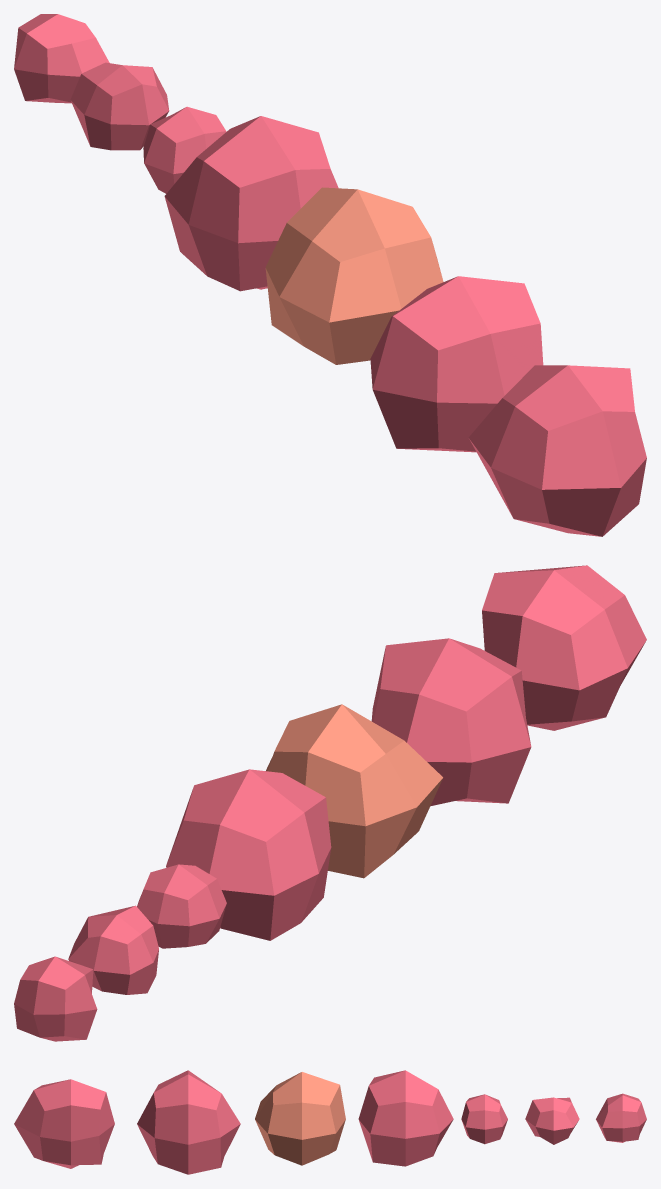
The model's file is asteroids.glb.
3 renders of one model, top to bottom at view 1: azimuth 30°, elevation 25°; view 2: azimuth 150°, elevation 25°; view 3: azimuth 270°, elevation 25°, orthographic. The views are drawn at different scales.
Visible parts, largest first — view 1: Cube, Cube.001, Cube.002, Cube.006, Cube.005, Cube.003, Cube.004; view 2: Cube.006, Cube, Cube.001, Cube.002, Cube.005, Cube.003, Cube.004; view 3: Cube.001, Cube.006, Cube, Cube.002, Cube.003, Cube.005, Cube.004.
Boxes of the visible parts, left/top/right/bottom form: Cube: left=468, top=365, right=646, bottom=536; Cube.001: left=370, top=276, right=543, bottom=452; Cube.002: left=265, top=187, right=443, bottom=364; Cube.006: left=164, top=116, right=338, bottom=291; Cube.005: left=70, top=62, right=169, bottom=150; Cube.003: left=14, top=14, right=109, bottom=103; Cube.004: left=143, top=106, right=226, bottom=193; Cube.006: left=166, top=769, right=331, bottom=940; Cube: left=482, top=565, right=646, bottom=730; Cube.001: left=371, top=638, right=531, bottom=806; Cube.002: left=266, top=704, right=443, bottom=878; Cube.005: left=68, top=905, right=158, bottom=994; Cube.003: left=14, top=956, right=97, bottom=1041; Cube.004: left=137, top=864, right=226, bottom=948; Cube.001: left=137, top=1070, right=240, bottom=1174; Cube.006: left=358, top=1070, right=453, bottom=1166; Cube: left=14, top=1079, right=114, bottom=1168; Cube.002: left=255, top=1072, right=345, bottom=1165; Cube.003: left=596, top=1093, right=646, bottom=1142; Cube.005: left=525, top=1097, right=579, bottom=1144; Cube.004: left=461, top=1094, right=507, bottom=1144.
Bounding box in the file's own units: 3.06 × 3.21 × 18.35.
Materials: 1 (1 with a texture image).
